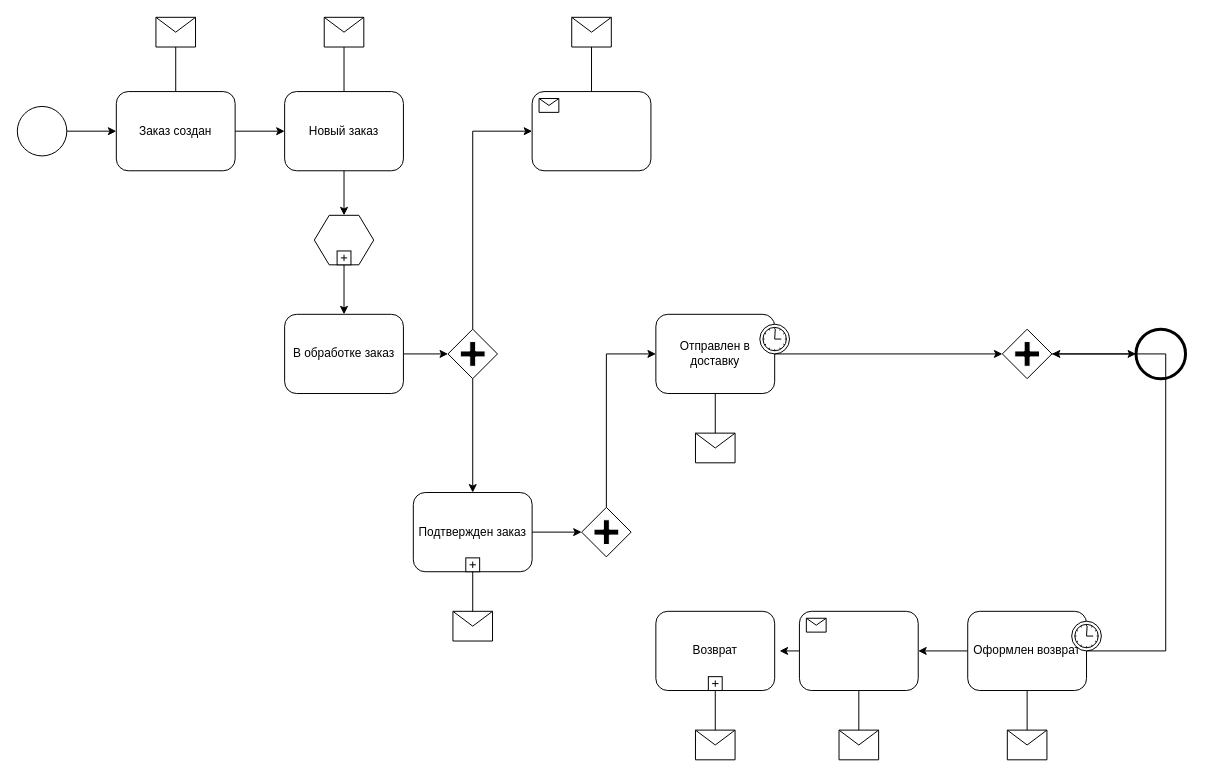
Image size: 1207x777. Some labels were removed from this diagram. The shapes that lost their labels are listed below. From the top down, each one's box as (x1, y1, x2, y2) in pixels, then its label:
(531, 91, 651, 171): Отменен заказ
(1135, 328, 1186, 379): Доставлен
(798, 610, 918, 691): Принят продавцом
